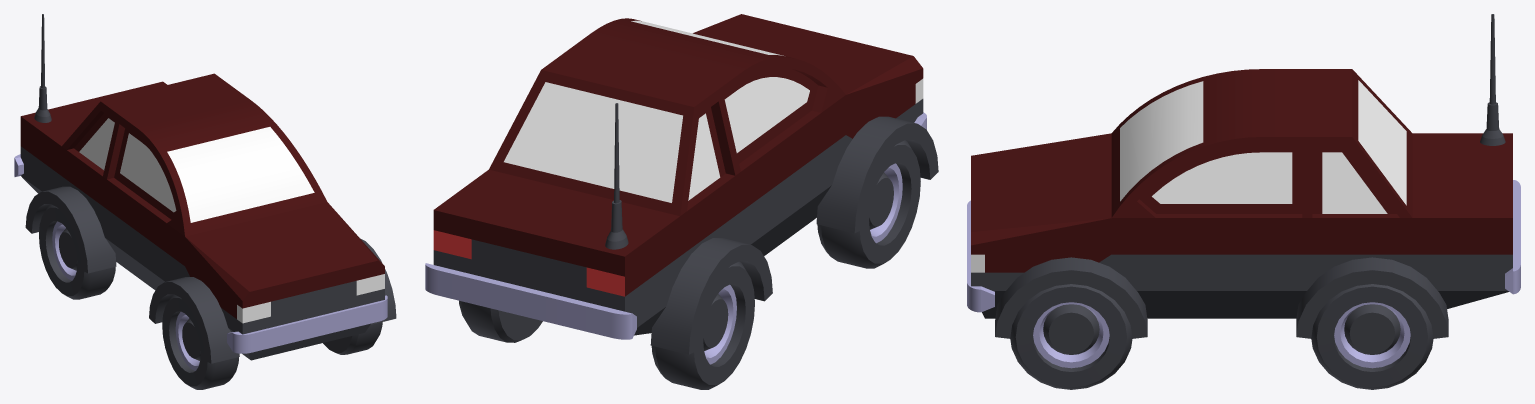
File: Car2.fbx
3 views of the same model, side by side, from view 1: azimuth 30°, elevation 25°; view 2: azimuth 150°, elevation 25°; view 3: azimuth 270°, elevation 25° (orthographic). The views are drawn at different scales.
Visible parts, largest first — view 1: mergedBlocks; view 2: mergedBlocks; view 3: mergedBlocks.
Boxes of the visible parts, x1,y1,x2,y2 form: mergedBlocks: (14, 14, 396, 389); mergedBlocks: (425, 14, 938, 389); mergedBlocks: (967, 14, 1520, 389).
Size of the model in its own units: 130 by 161 by 276.
